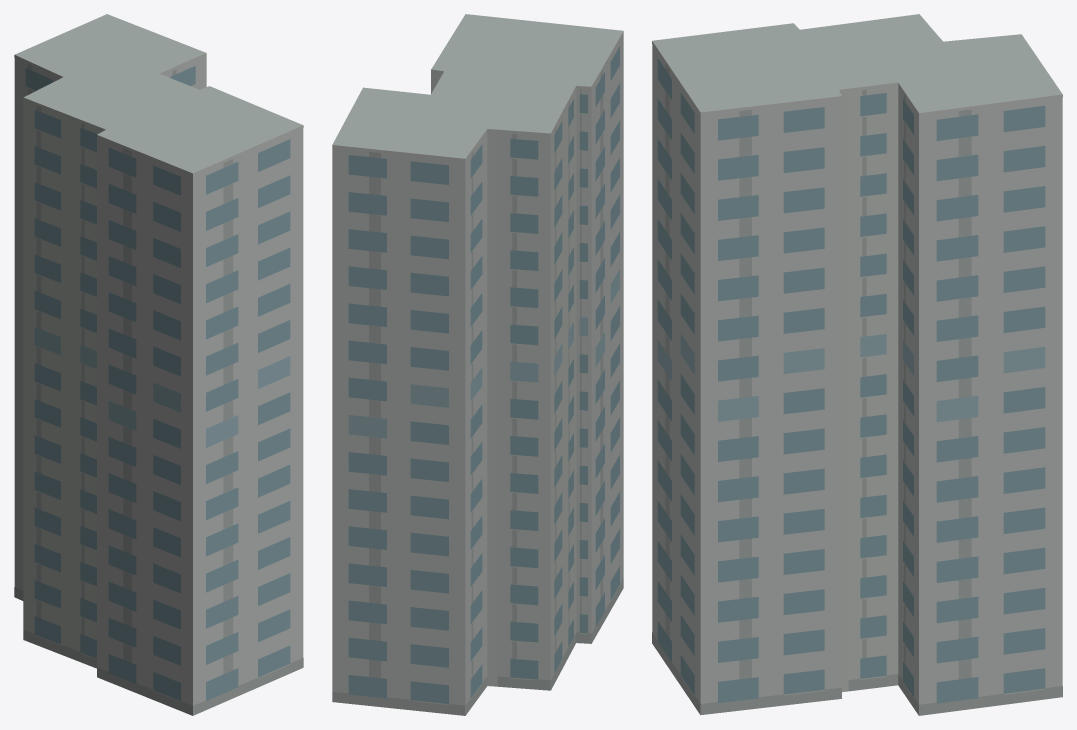
File: survey-upis-32632371.glb
3 renders of one model, left to right at view 1: azimuth 30°, elevation 25°; view 2: azimuth 150°, elevation 25°; view 3: azimuth 270°, elevation 25°, orthographic. The views are drawn at different scales.
Visible parts, largest first — view 1: survey-upis-32632371.tmp; view 2: survey-upis-32632371.tmp; view 3: survey-upis-32632371.tmp.
Boxes of the visible parts, <box> form: survey-upis-32632371.tmp: <box>14,14,303,715</box>; survey-upis-32632371.tmp: <box>332,14,623,715</box>; survey-upis-32632371.tmp: <box>652,14,1062,715</box>.
Bounding box in the file's own units: 16.16 × 45.75 × 28.26.
